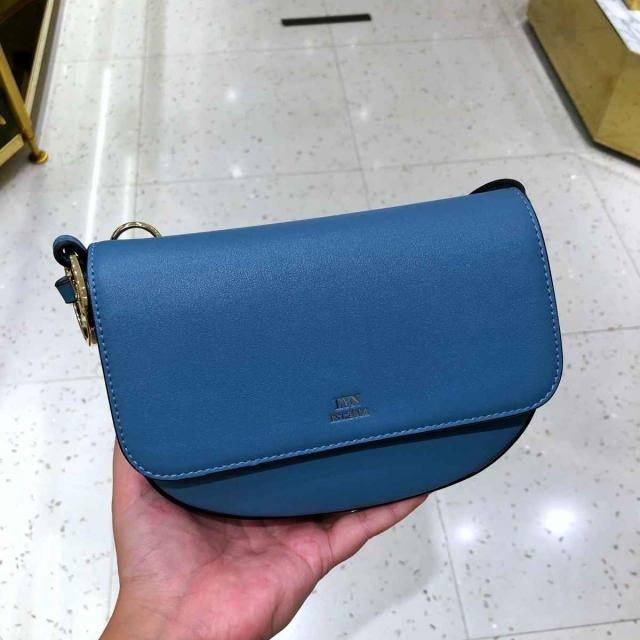Handbag: (39, 170, 574, 522)
